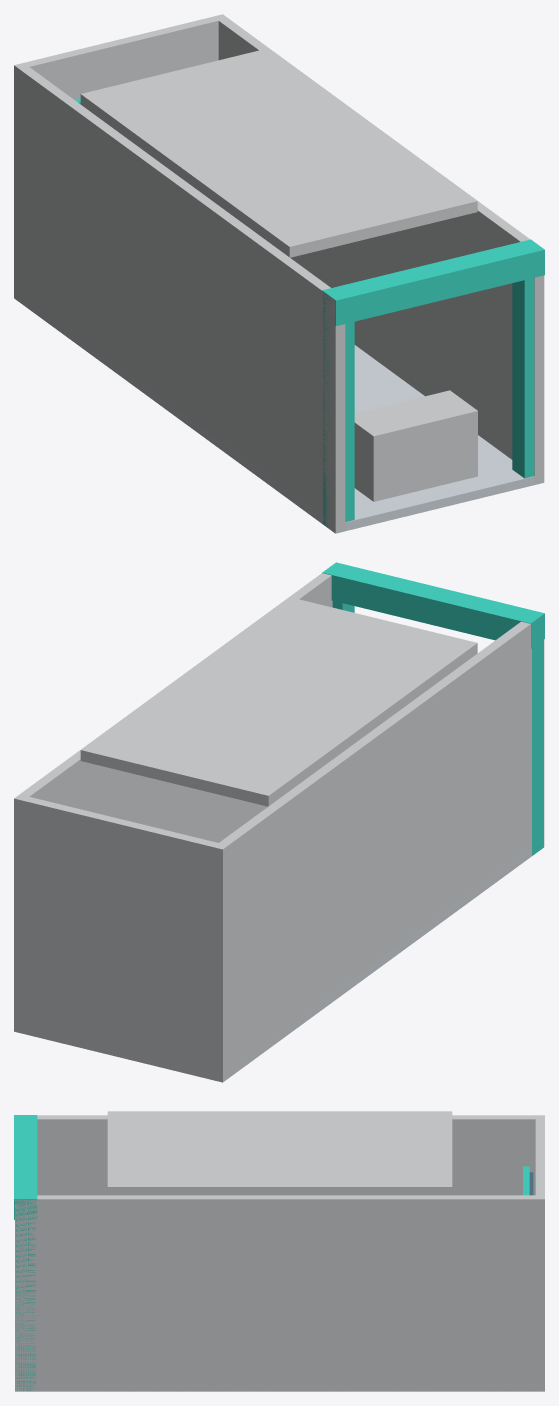
The picture shows the model from 3 angles, top to bottom: view 1: azimuth 30°, elevation 25°; view 2: azimuth 150°, elevation 25°; view 3: azimuth 270°, elevation 25°; orthographic projection. The views are drawn at different scales.
Parts seen in each view (by area): view 1: Exhibition Booth Concept; view 2: Exhibition Booth Concept; view 3: Exhibition Booth Concept.
Boxes of the visible parts, box(x1,y1,x2,y2) form: Exhibition Booth Concept: box(14, 14, 544, 533); Exhibition Booth Concept: box(14, 562, 544, 1082); Exhibition Booth Concept: box(14, 1111, 544, 1391).
Size of the model in its own units: 3 by 3.34 by 8.01.
